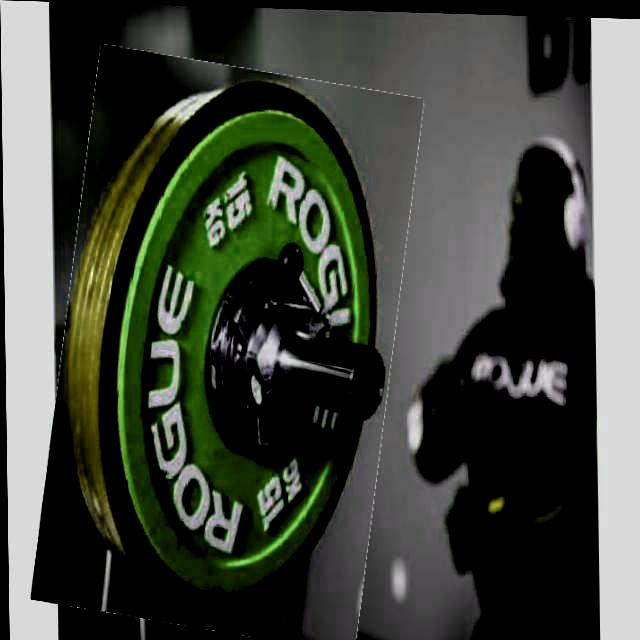barbell: (43, 53, 412, 640)
